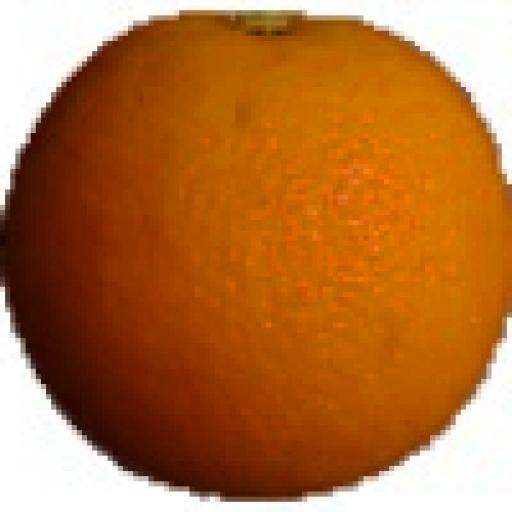orange: (5, 16, 505, 496)
